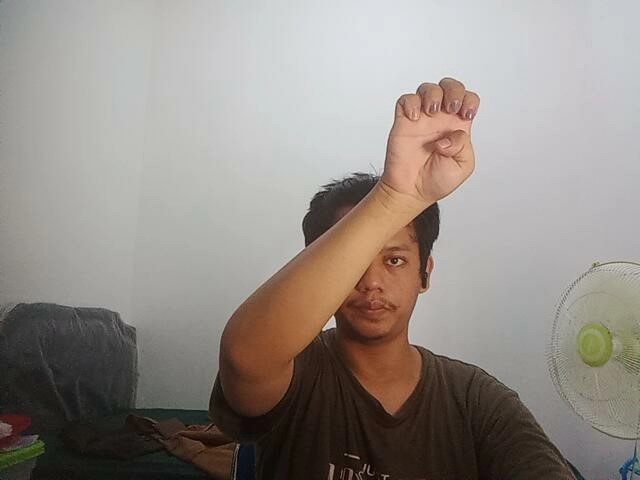E: (373, 72, 497, 209)
